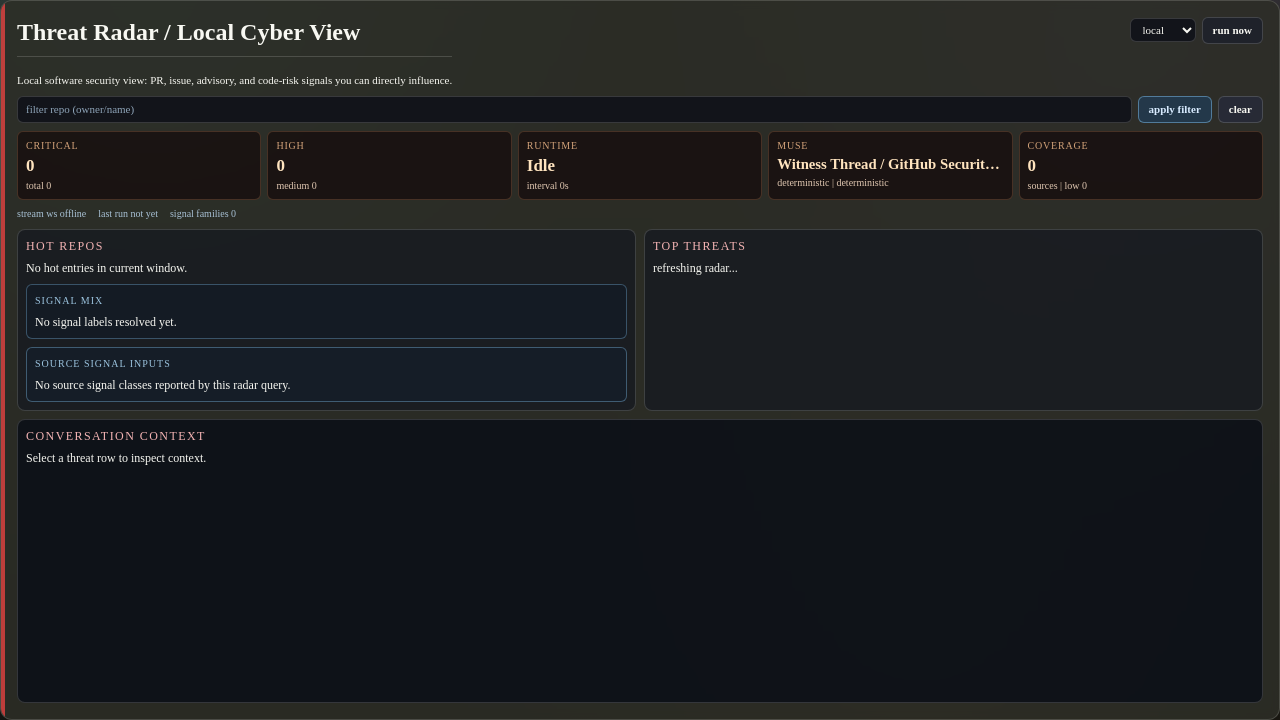
Test: ThreatRadarPanel › hides github-like rows in global mode even when kind is generic
Select "global" in the dropdown. click: coordinates (1163, 30)
box: 1130,18 -> 1196,42
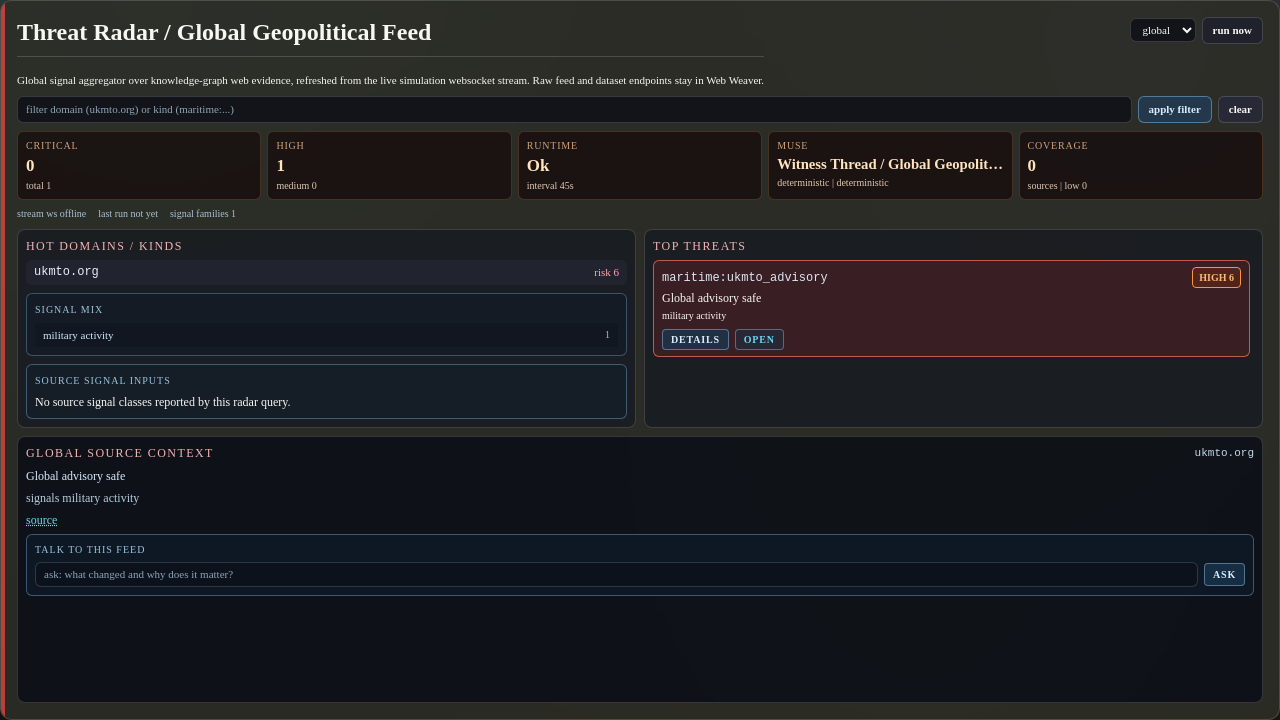
Now the text "Global advisory safe" below "maritime:ukmto_advisory" is shown, box 662,291 -> 761,305
